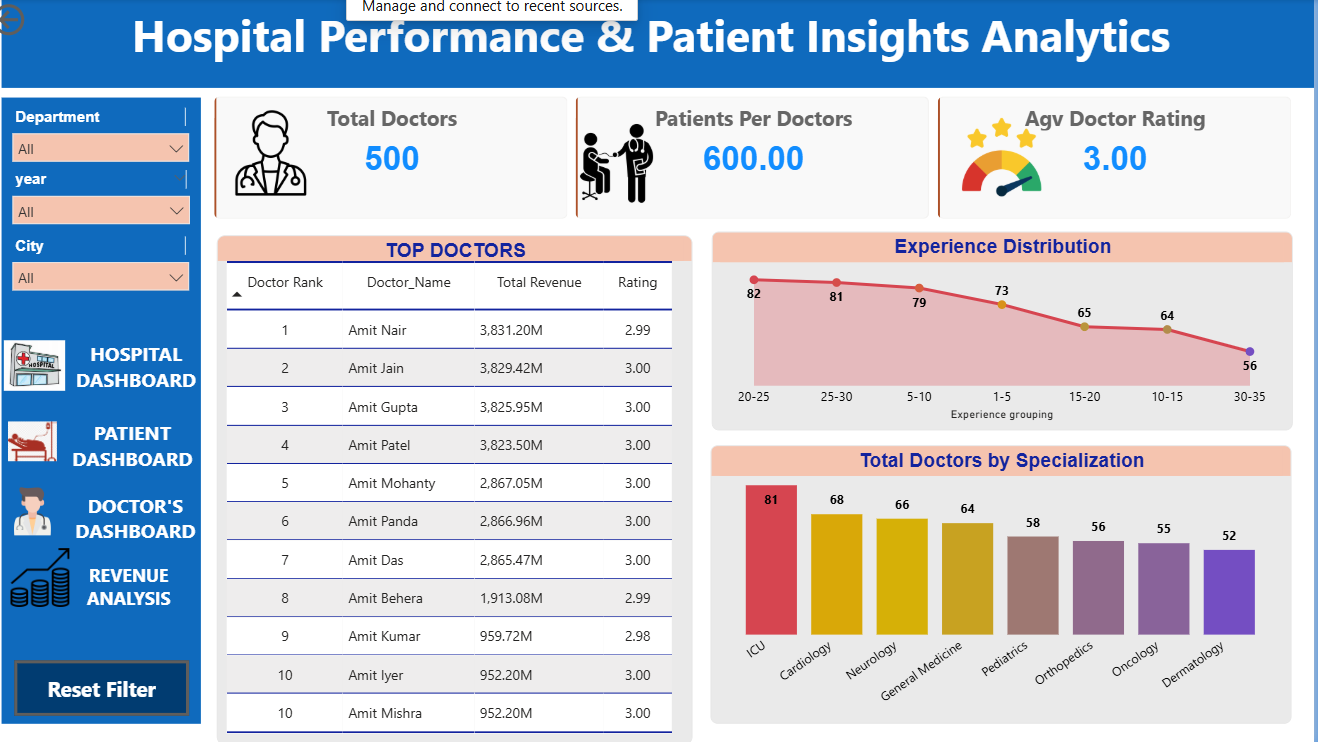

The dashboard page shown, as its layout file describes it:
{"tool":"powerbi","page":{"name":"HOME","canvas":[1280,720],"ordinal":0},"visuals":[{"type":"shape","box":[13.5,0,1266.9,85.6],"z":0},{"type":"slicer","fields":{"Values":["india_hospital_patients_300k_updated.Department"]},"box":[13.6,100,190.8,65.1],"z":0,"group":"g2"},{"type":"actionButton","box":[50.7,507.9,170.1,82],"z":0,"group":"g3"},{"type":"textbox","box":[0,0,1280.3,85.1],"z":1000},{"type":"slicer","fields":{"Values":["calender.year"]},"box":[13.6,160.5,191.4,65.4],"z":1000,"group":"g2"},{"type":"group","id":"g1","title":"Group 4","box":[15.7,294.4,203.9,229.7],"z":1000,"group":"g3"},{"type":"shape","box":[13.3,100.1,191.8,599.6],"z":2000},{"type":"slicer","fields":{"Values":["india_hospitals.City"]},"box":[13.6,224.5,190.8,65.1],"z":2000,"group":"g2"},{"type":"image","box":[21.5,507.9,56.7,65.1],"z":2000,"group":"g3"},{"type":"shape","box":[214.8,95.1,1053.1,127.2],"z":3000},{"type":"actionButton","box":[68.8,294.4,150.8,83.2],"z":3000,"group":"g1"},{"type":"cardVisual","fields":{"Data":["india_hospitals.Total Hospital","india_hospitals.Total Revenue","india_hospitals.Total Patient","india_hospitals.Avg Lenght Of Stay","india_hospitals.Total Beds"]},"box":[218.5,100,1049.4,118.5],"z":4000},{"type":"image","box":[15.7,311.5,60.9,49.2],"z":4000,"group":"g6"},{"type":"group","id":"g2","title":"Group 2","box":[13.6,100,191.4,190.1],"z":5000},{"type":"actionButton","box":[67.2,370.5,146.3,84.8],"z":5000,"group":"g6"},{"type":"cardVisual","fields":{"Data":["india_hospitals.Revenue growth strip"]},"box":[459.3,159.3,153.1,74.1],"z":6000},{"type":"image","box":[20.4,445.5,46.8,62.7],"z":6000,"group":"g6"},{"type":"cardVisual","fields":{"Data":["india_hospitals.patient revenue py"]},"box":[677.8,158,153.1,74.1],"z":7000},{"type":"columnChart","title":"Hospital Revenue Trend","fields":{"Category":["calender.year"],"Y":["india_hospitals.Total Revenue"]},"box":[566.4,226.6,408.1,237.4],"z":8000},{"type":"image","box":[20.4,377.9,46.8,62.7],"z":8000,"group":"g6"},{"type":"map","fields":{"Category":["india_hospitals.City"]},"box":[216.8,226.4,337.6,237.4],"z":9000},{"type":"actionButton","box":[67.3,442.1,152,82],"z":9000,"group":"g5"},{"type":"barChart","title":"Top Hospital","fields":{"Category":["india_hospitals.Hospital_Name"],"Y":["india_hospitals.Total Revenue"]},"box":[220.4,471.8,335.2,220.4],"z":10000},{"type":"lineChart","title":"Patient Admission Trends","fields":{"Y":["india_hospitals.Total Patient"],"Category":["calender.year","calender.month"]},"box":[856.6,473.3,411.3,218.8],"z":11000},{"type":"group","id":"g3","title":"Group 5","box":[15.7,294.4,205.1,295.6],"z":12000},{"type":"donutChart","title":"Revenue Trend by Gender","fields":{"Y":["patients.REVENUE BY FEMALE","patients.REVENUE BY MALE"]},"box":[985.5,229.7,294.9,231.2],"z":13000},{"type":"donutChart","title":"Patient Distribution","fields":{"Y":["india_hospitals.Total Patient"],"Category":["patients.Gender"]},"box":[566.9,471.7,279.3,221.9],"z":14000,"group":"g4"},{"type":"actionButton","box":[25.7,638.3,168.8,53.8],"z":14000},{"type":"group","id":"g4","title":"Group 6","box":[566.9,471.7,279.3,221.9],"z":15000},{"type":"image","box":[672.4,561.7,71.4,52.8],"z":15000,"group":"g4"},{"type":"group","id":"g5","title":"Group 1","box":[15.7,311.5,203.6,212.6],"z":18000,"group":"g1"},{"type":"group","id":"g6","title":"Group 3","box":[15.7,311.5,197.9,196.6],"z":18001,"group":"g5"}]}

Visuals, with their boxes on the page's 1280x720 design canvas (x1, y1, x2, y2). These are canvas units, not pixel positions in the 1318x742 screenshot, which may show the page scaled, cropped or inside an application window:
shape: box(14, 0, 1280, 86)
slicer - india_hospital_patients_300k_updated.Department: box(14, 100, 204, 165)
actionButton: box(51, 508, 221, 590)
textbox: box(0, 0, 1280, 85)
slicer - calender.year: box(14, 160, 205, 226)
"Group 4" group: box(16, 294, 220, 524)
shape: box(13, 100, 205, 700)
slicer - india_hospitals.City: box(14, 224, 204, 290)
image: box(22, 508, 78, 573)
shape: box(215, 95, 1268, 222)
actionButton: box(69, 294, 220, 378)
cardVisual - india_hospitals.Total Hospital x india_hospitals.Total Revenue: box(218, 100, 1268, 218)
image: box(16, 312, 77, 361)
"Group 2" group: box(14, 100, 205, 290)
actionButton: box(67, 370, 214, 455)
cardVisual - india_hospitals.Revenue growth strip: box(459, 159, 612, 233)
image: box(20, 446, 67, 508)
cardVisual - india_hospitals.patient revenue py: box(678, 158, 831, 232)
"Hospital Revenue Trend" columnChart: box(566, 227, 974, 464)
image: box(20, 378, 67, 441)
map - india_hospitals.City: box(217, 226, 554, 464)
actionButton: box(67, 442, 219, 524)
"Top Hospital" barChart: box(220, 472, 556, 692)
"Patient Admission Trends" lineChart: box(857, 473, 1268, 692)
"Group 5" group: box(16, 294, 221, 590)
"Revenue Trend by Gender" donutChart: box(986, 230, 1280, 461)
"Patient Distribution" donutChart: box(567, 472, 846, 694)
actionButton: box(26, 638, 194, 692)
"Group 6" group: box(567, 472, 846, 694)
image: box(672, 562, 744, 614)
"Group 1" group: box(16, 312, 219, 524)
"Group 3" group: box(16, 312, 214, 508)
